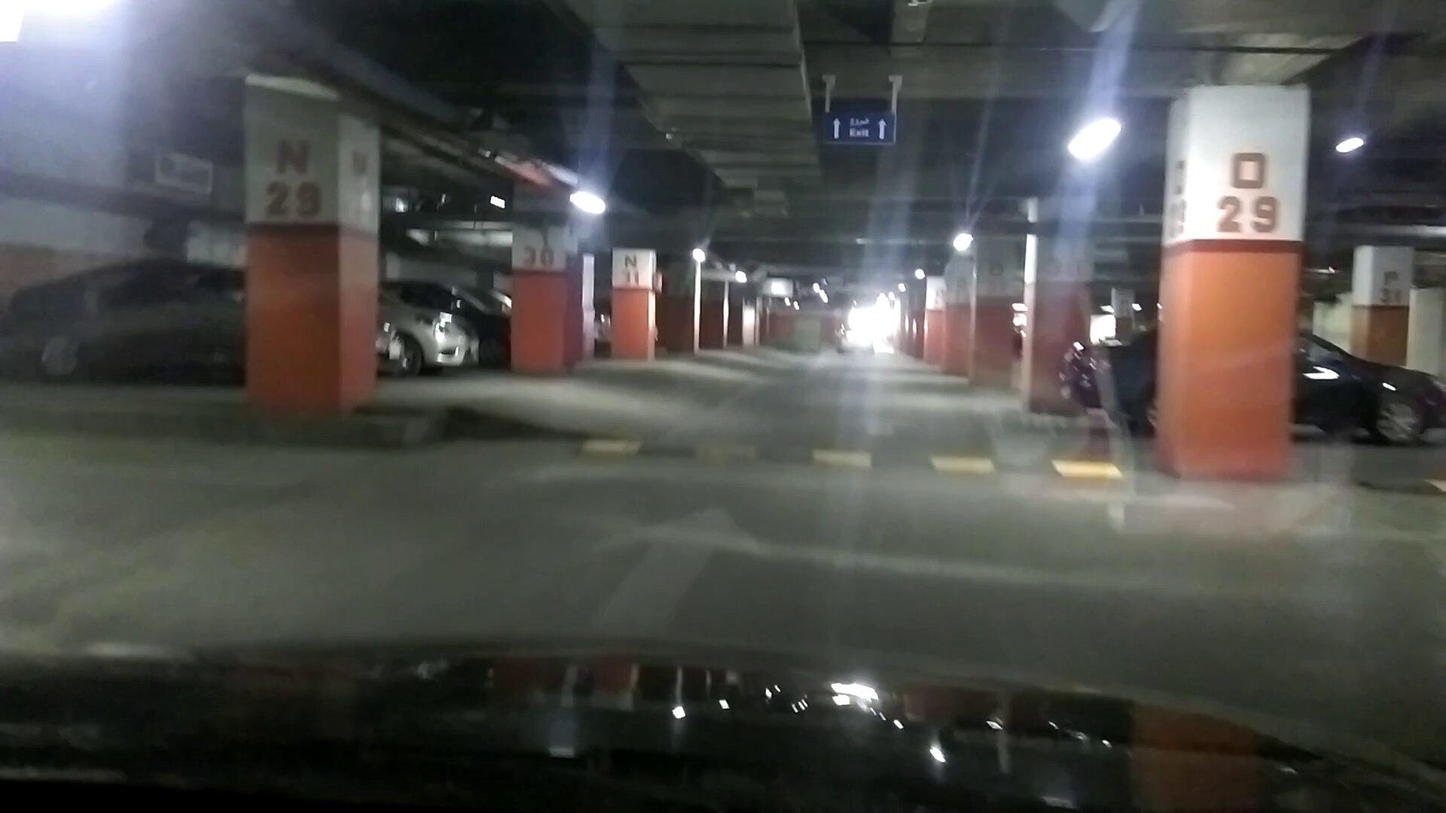Bump: (561, 437, 1139, 482)
